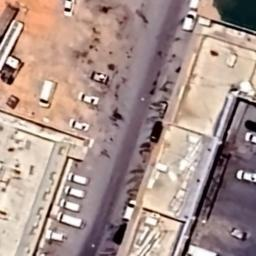SUV: (236, 168, 256, 184)
sedan: (149, 120, 165, 143), (78, 92, 100, 106), (68, 118, 90, 132), (245, 117, 256, 132), (64, 0, 74, 16), (244, 132, 256, 144)
truck: (56, 212, 84, 230), (64, 186, 86, 199), (68, 172, 88, 186), (60, 199, 80, 212), (46, 230, 66, 242)
unknown: (189, 0, 200, 9)
van: (38, 80, 58, 108), (182, 10, 198, 31), (123, 200, 138, 220)
